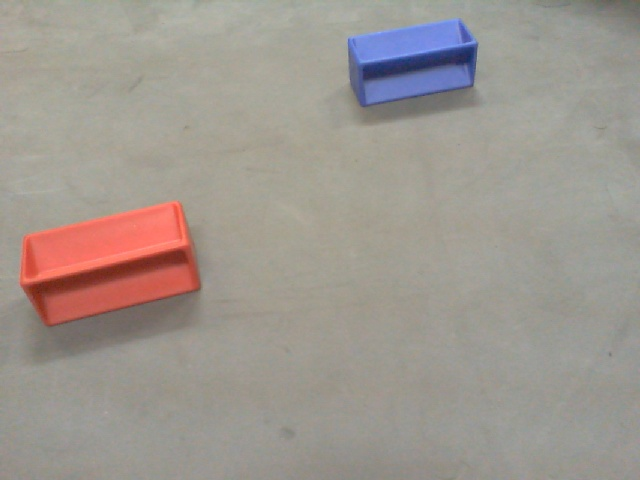BlueSample: (344, 15, 481, 108)
RedSample: (19, 192, 203, 329)
